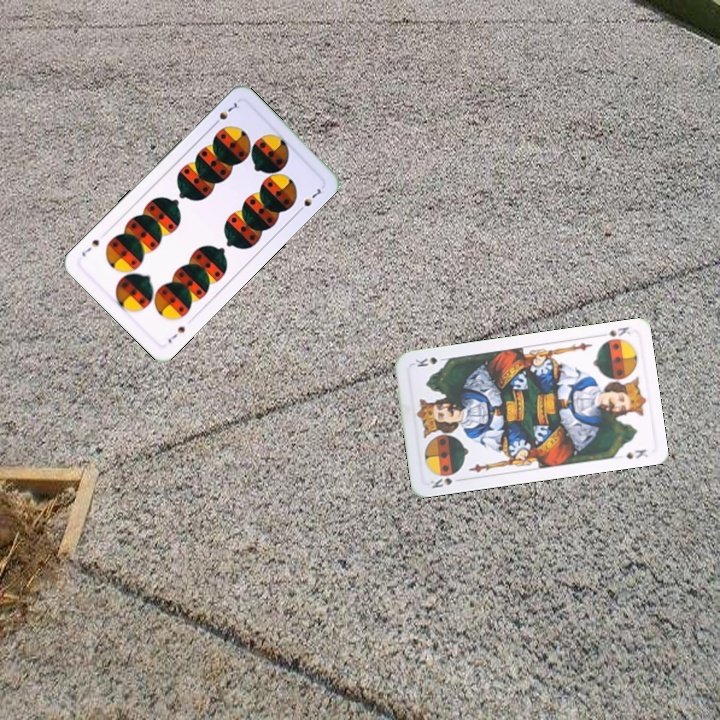S7: (209, 99, 240, 129), (164, 322, 188, 346)
SK: (595, 323, 633, 340), (426, 474, 455, 491)
